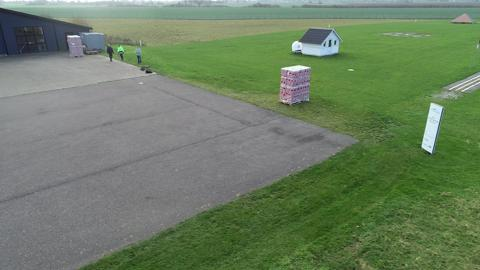RockwoolPallet: (66, 34, 85, 58)
